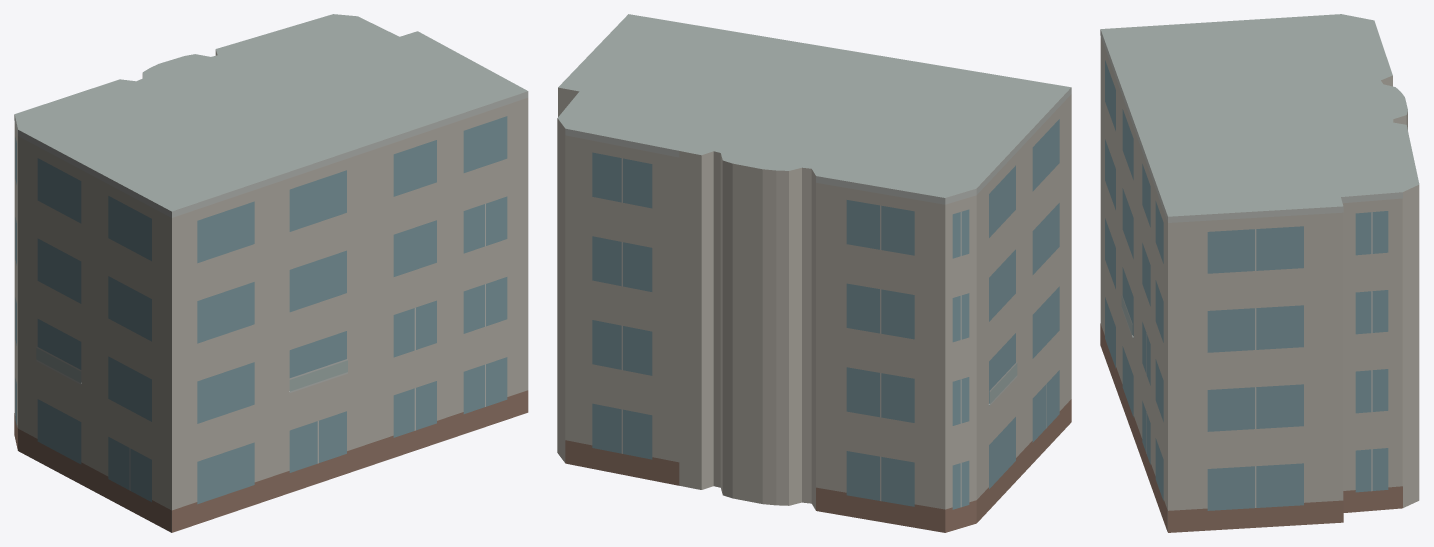
File: survey-upis-32655841.glb
3 views of the same model, side by side, from view 1: azimuth 30°, elevation 25°; view 2: azimuth 150°, elevation 25°; view 3: azimuth 270°, elevation 25° (orthographic). The views are drawn at different scales.
Visible parts, largest first — view 1: survey-upis-32655841.tmp; view 2: survey-upis-32655841.tmp; view 3: survey-upis-32655841.tmp.
Part boxes in pixels (left/top/right/bottom): survey-upis-32655841.tmp: left=14, top=14, right=528, bottom=532; survey-upis-32655841.tmp: left=557, top=14, right=1071, bottom=532; survey-upis-32655841.tmp: left=1100, top=14, right=1419, bottom=532.
Size of the model in its own units: 16.79 by 12.2 by 11.16.
